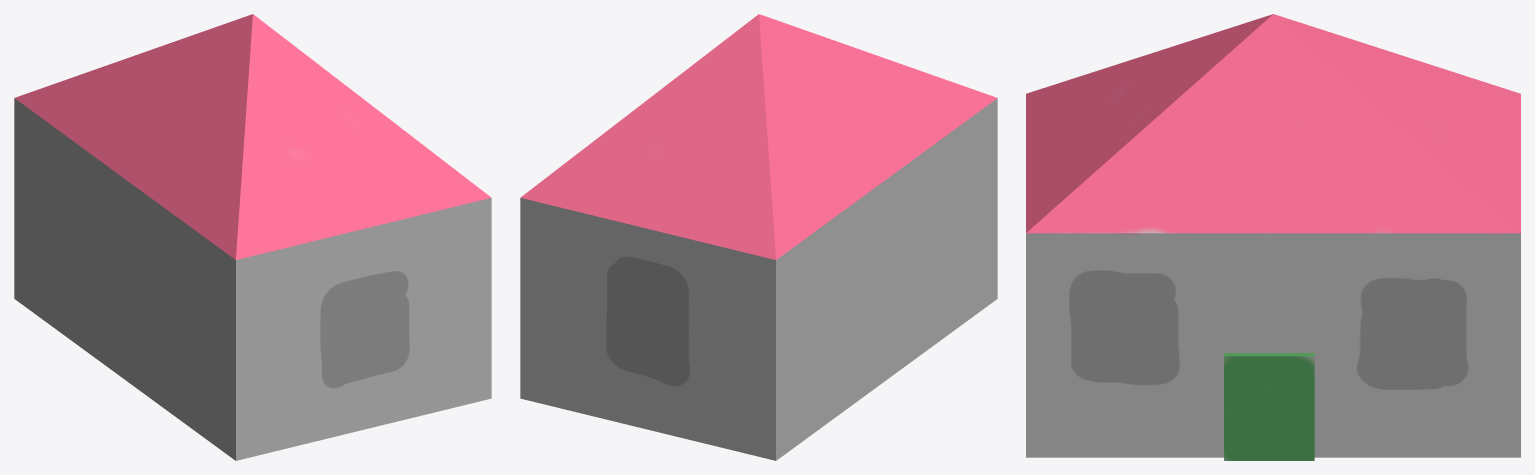
File: house.fbx
3 renders of one model, left to right at view 1: azimuth 30°, elevation 25°; view 2: azimuth 150°, elevation 25°; view 3: azimuth 270°, elevation 25°, orthographic. The views are drawn at different scales.
Parts seen in each view (by area): view 1: Cube; view 2: Cube; view 3: Cube.
Part boxes in pixels (x1,y1,x2,y2): Cube: [14, 14, 491, 460]; Cube: [520, 14, 997, 460]; Cube: [1026, 14, 1520, 460].
Size of the model in its own units: 410 by 500 by 600.
Materials: 1 (1 with a texture image).
